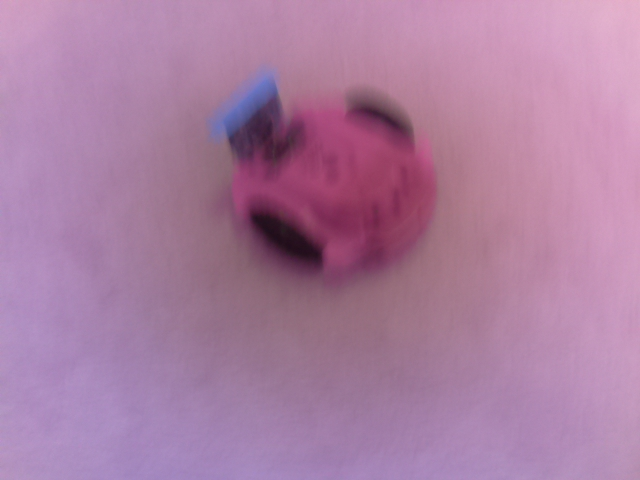board: (209, 72, 306, 161)
chassis: (210, 63, 444, 289)
